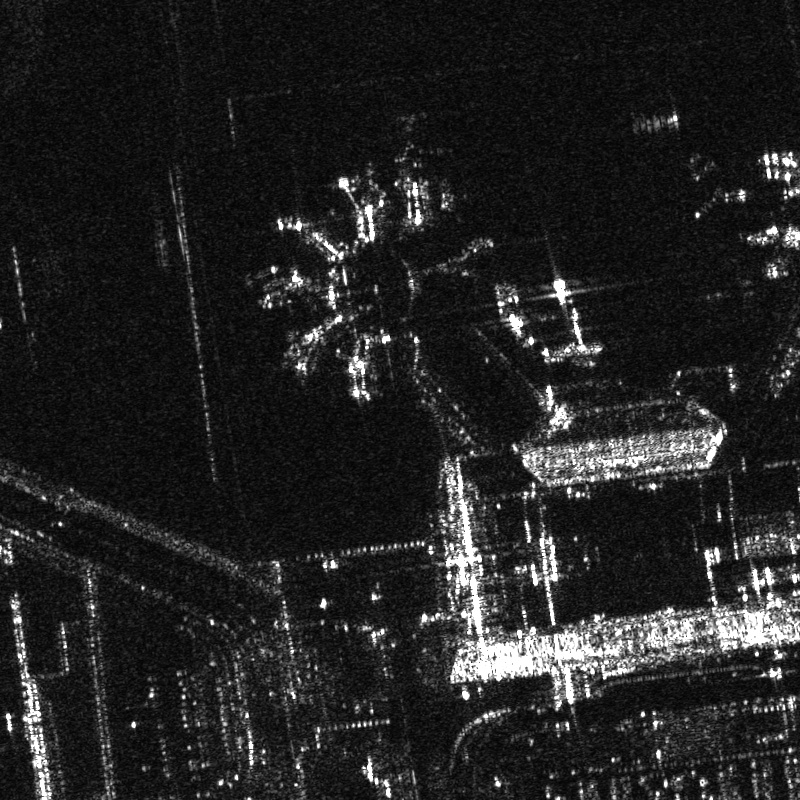A220: (693, 155, 751, 220), (385, 114, 440, 171), (712, 269, 757, 310)
